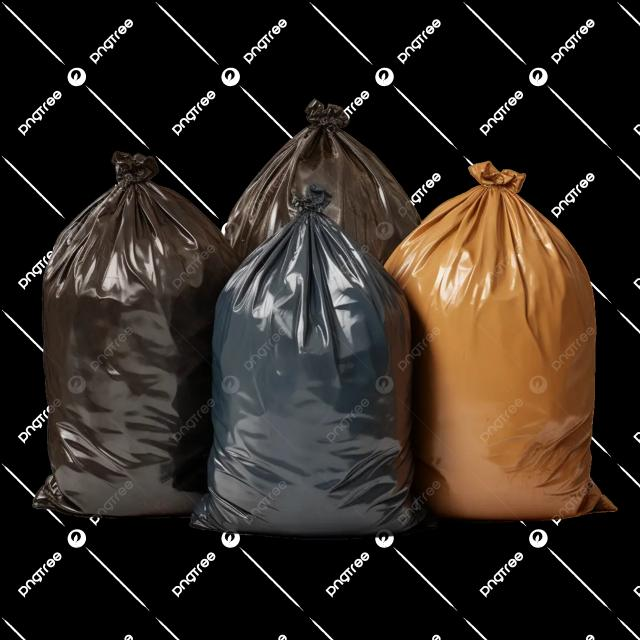Single-layer Plastic: (385, 161, 615, 520), (191, 185, 422, 535), (32, 152, 238, 518), (225, 99, 420, 264)
